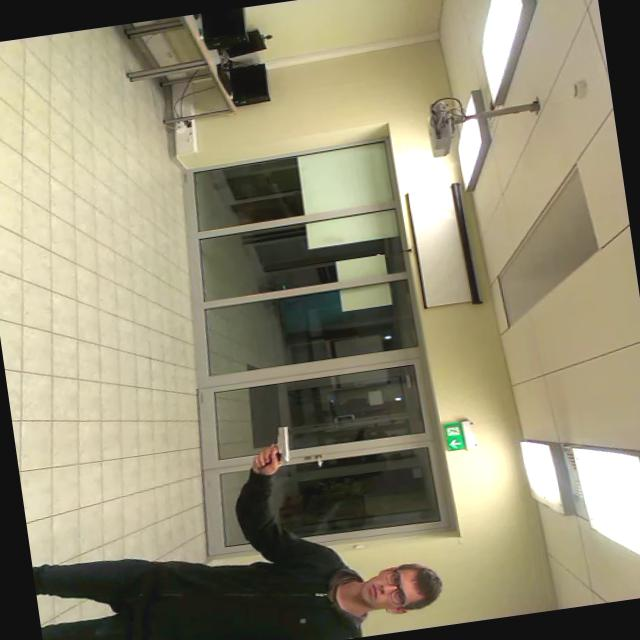handgun: (237, 418, 302, 479)
